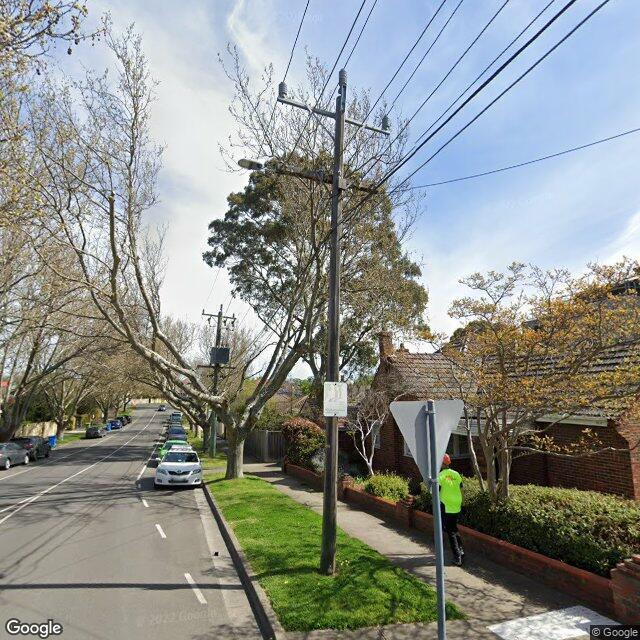HV-transmission: (278, 68, 390, 132), (202, 304, 235, 318)
crossarm: (277, 97, 390, 135), (274, 163, 384, 194), (202, 313, 237, 320), (197, 365, 235, 369)
streetlight: (238, 158, 275, 170)
timber-pole: (320, 96, 346, 576), (210, 312, 222, 458)
transformer: (210, 347, 230, 363)
